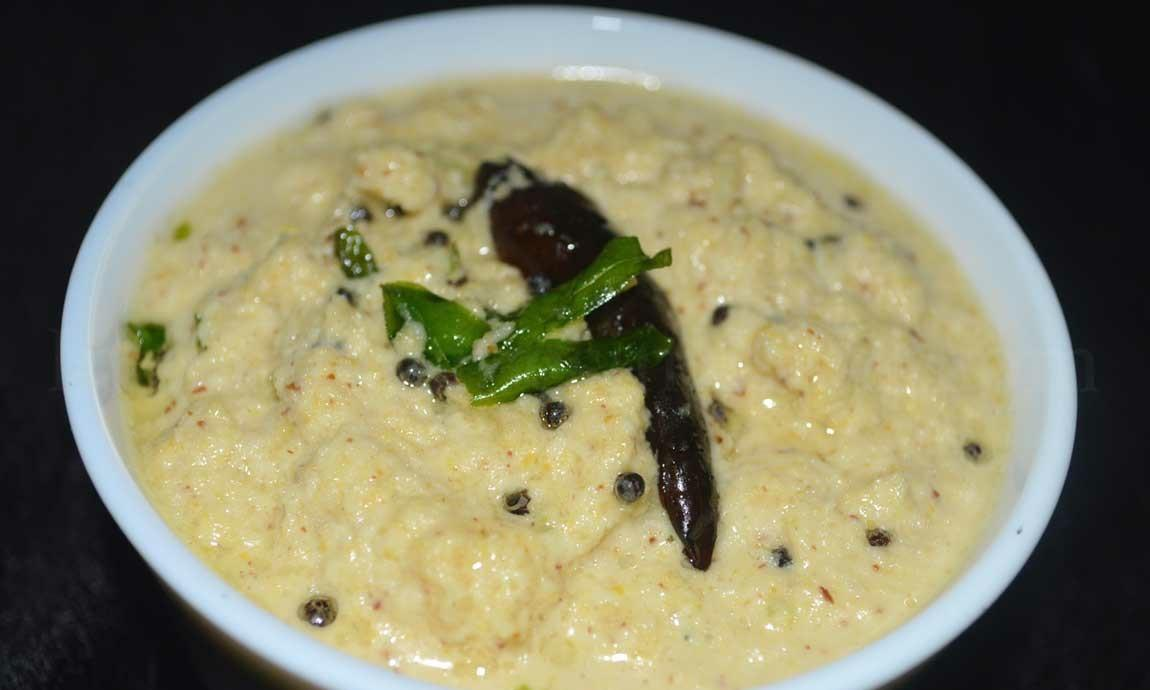CoconutChutney: (115, 72, 1008, 690)
